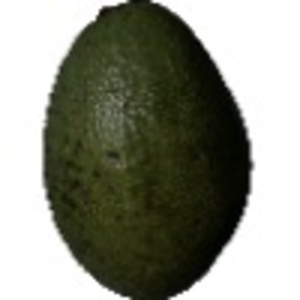abacate: (40, 1, 253, 296)
